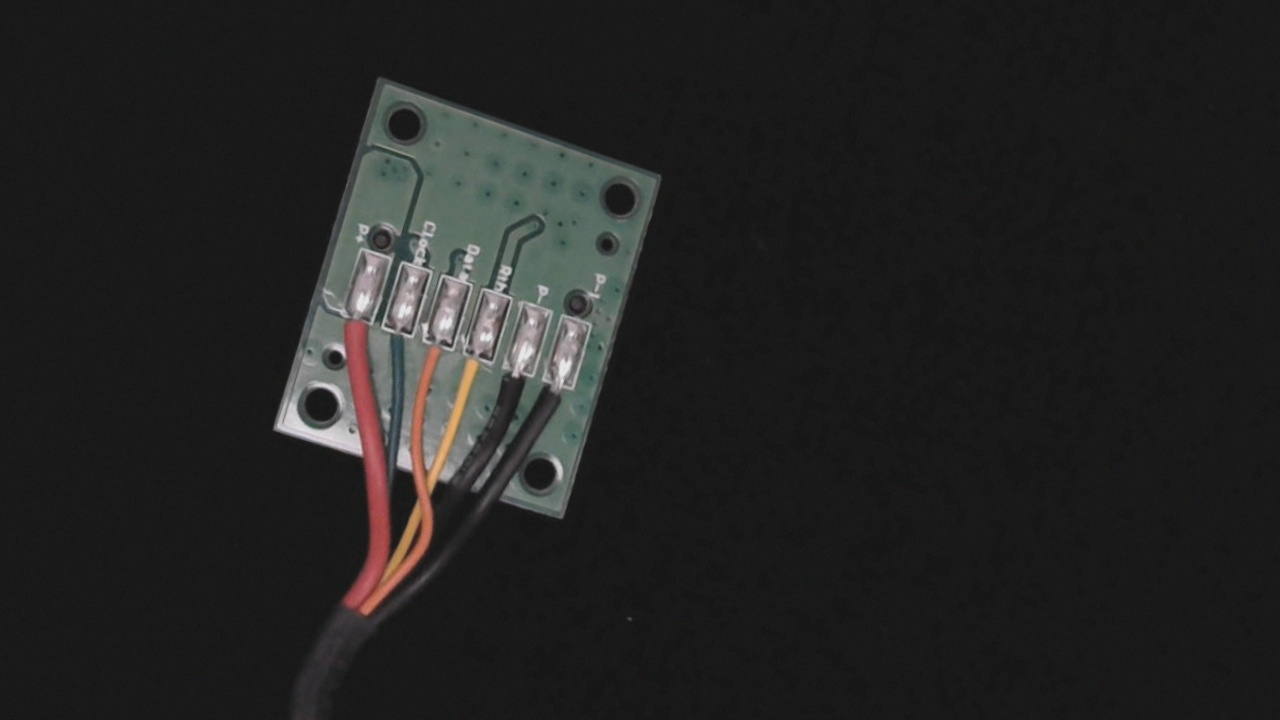Black: (479, 346, 540, 436)
Black1: (523, 363, 581, 446)
Green: (369, 306, 422, 377)
Orange: (405, 321, 461, 400)
Red: (325, 289, 386, 376)
Yellow: (438, 334, 499, 425)
